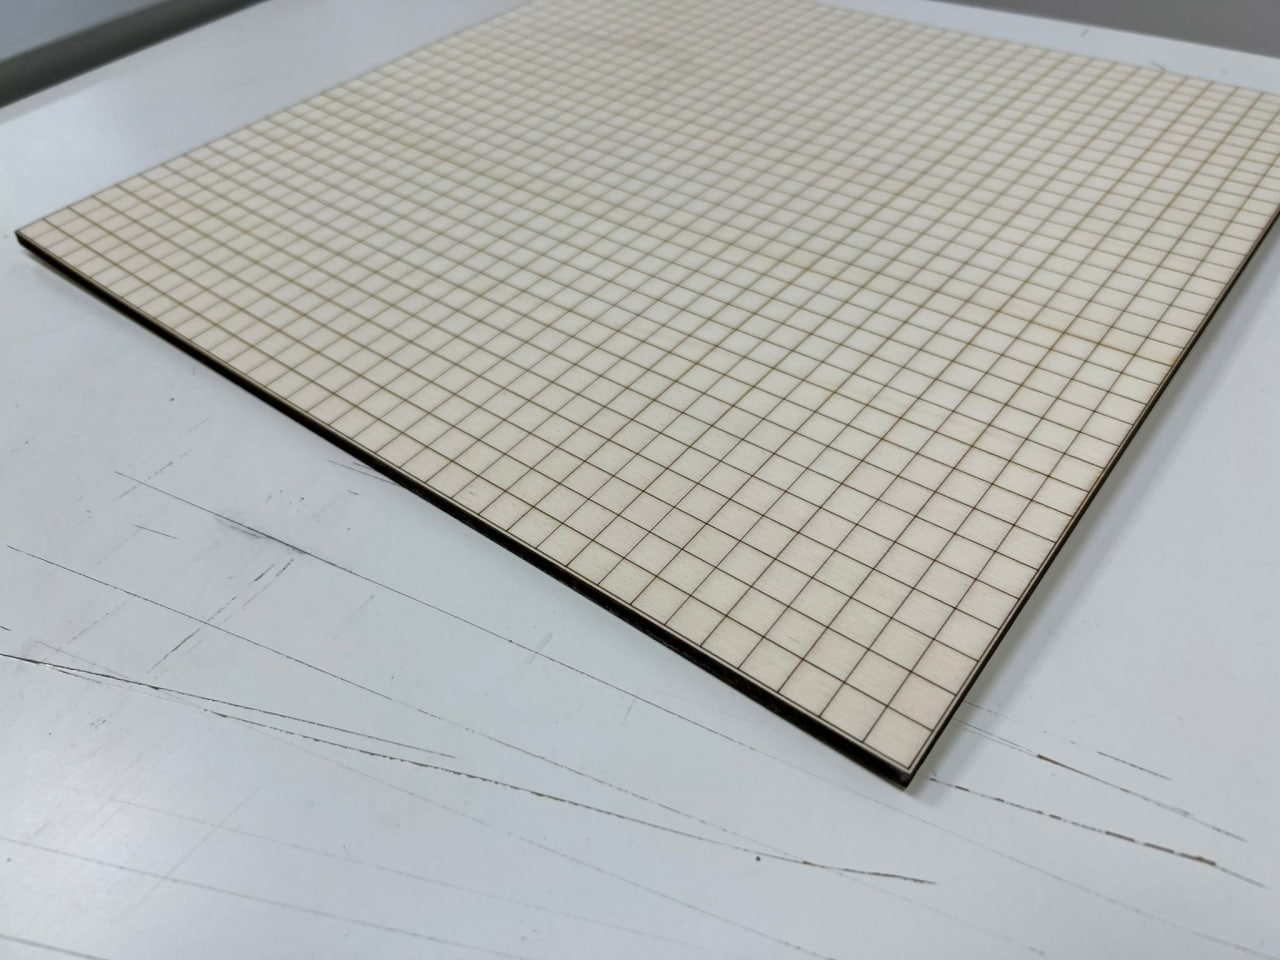grid: (12, 3, 1280, 795)
